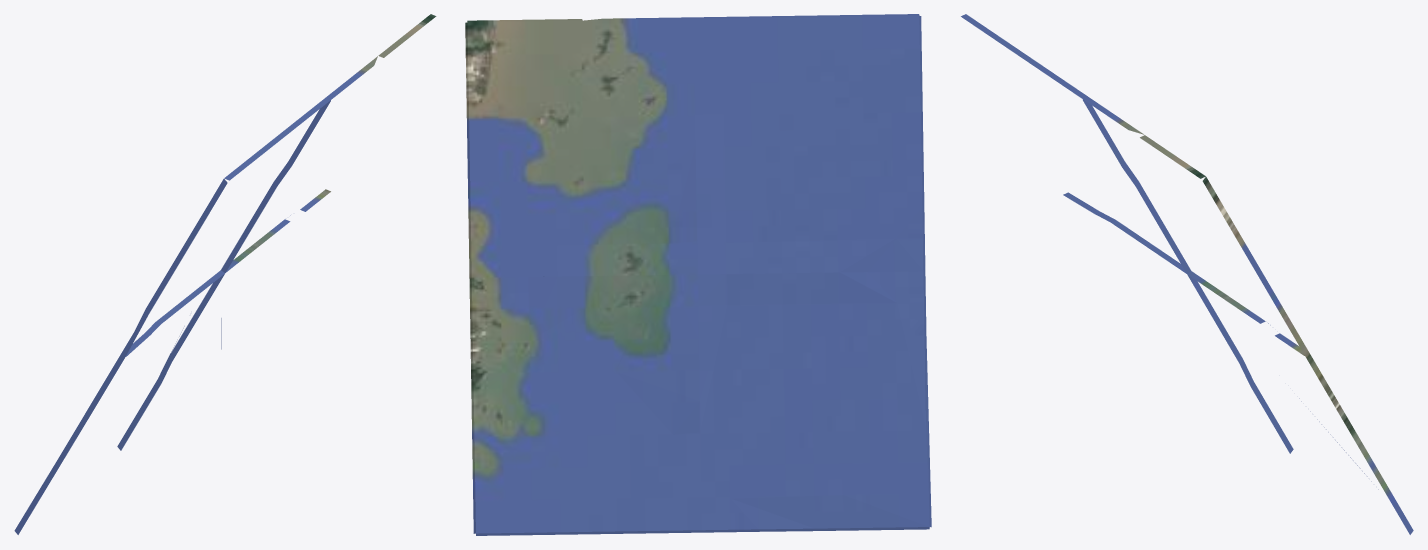
The picture shows the model from 3 angles, left to right: view 1: azimuth 30°, elevation 25°; view 2: azimuth 150°, elevation 25°; view 3: azimuth 270°, elevation 25°; orthographic projection. The views are drawn at different scales.
Size of the model in its own units: 79198 by 69684 by 69129.
Materials: 1 (1 with a texture image).
